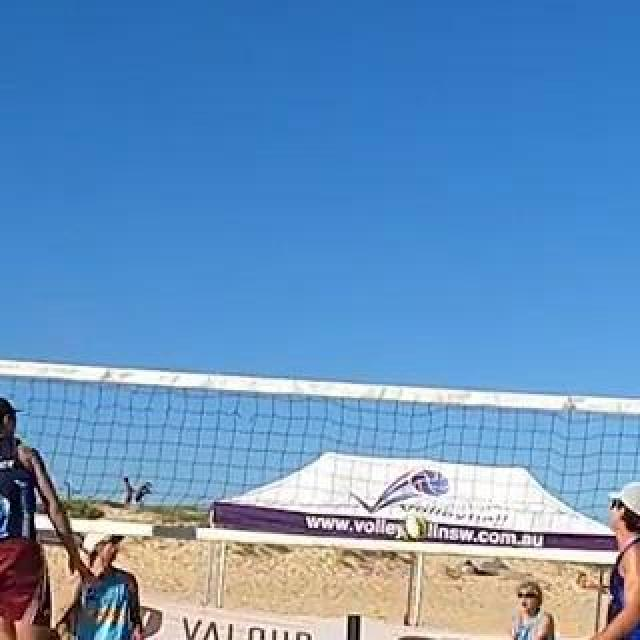volleyball: (401, 514, 429, 542)
